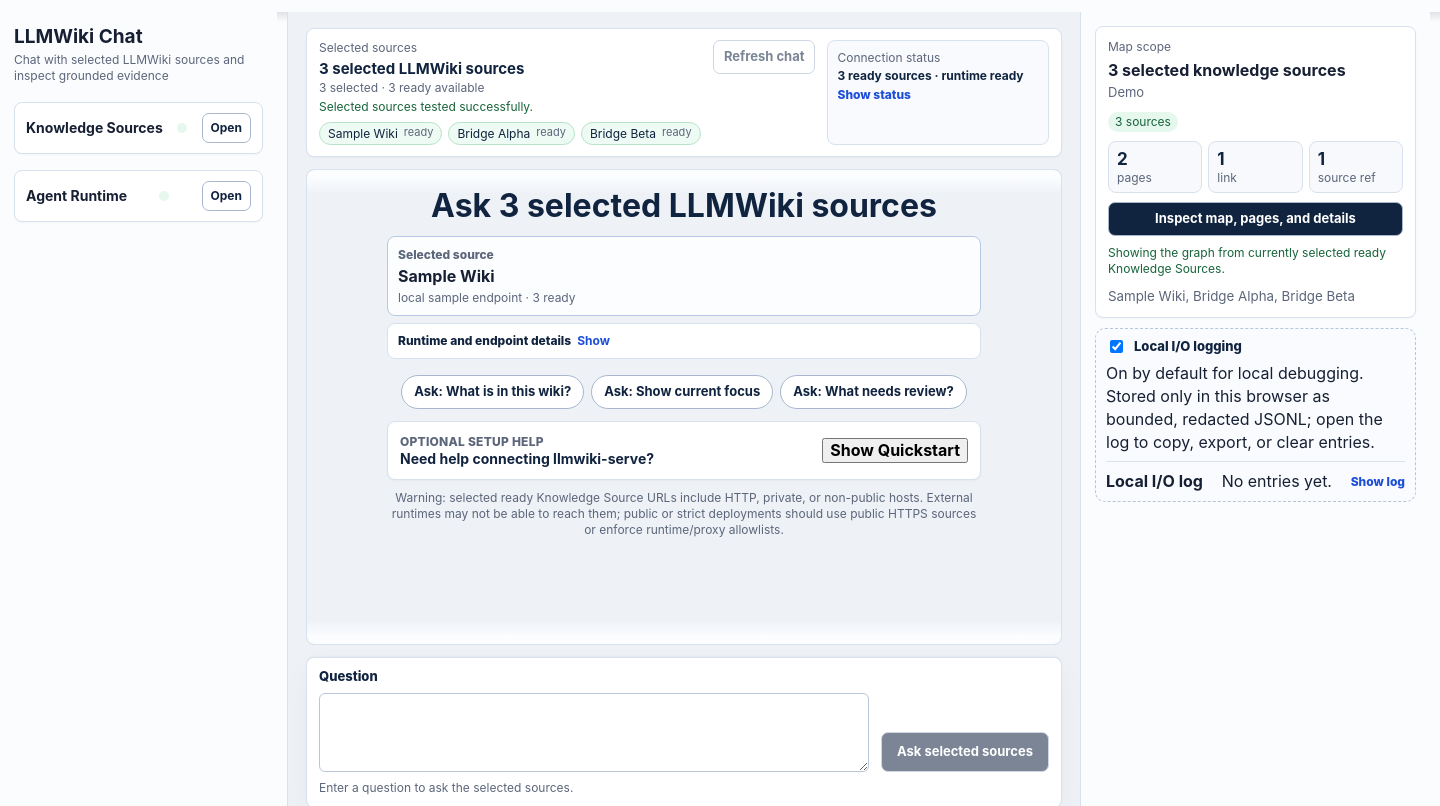
Test case: LLMWiki Chat › deduplicates Agent Bridge sources by endpoint when switching A2A and MCP bridge runtimes
Click the button with aria-label "Knowledge Sources" at (226, 128), box x1=202 y1=113 x2=251 y2=143
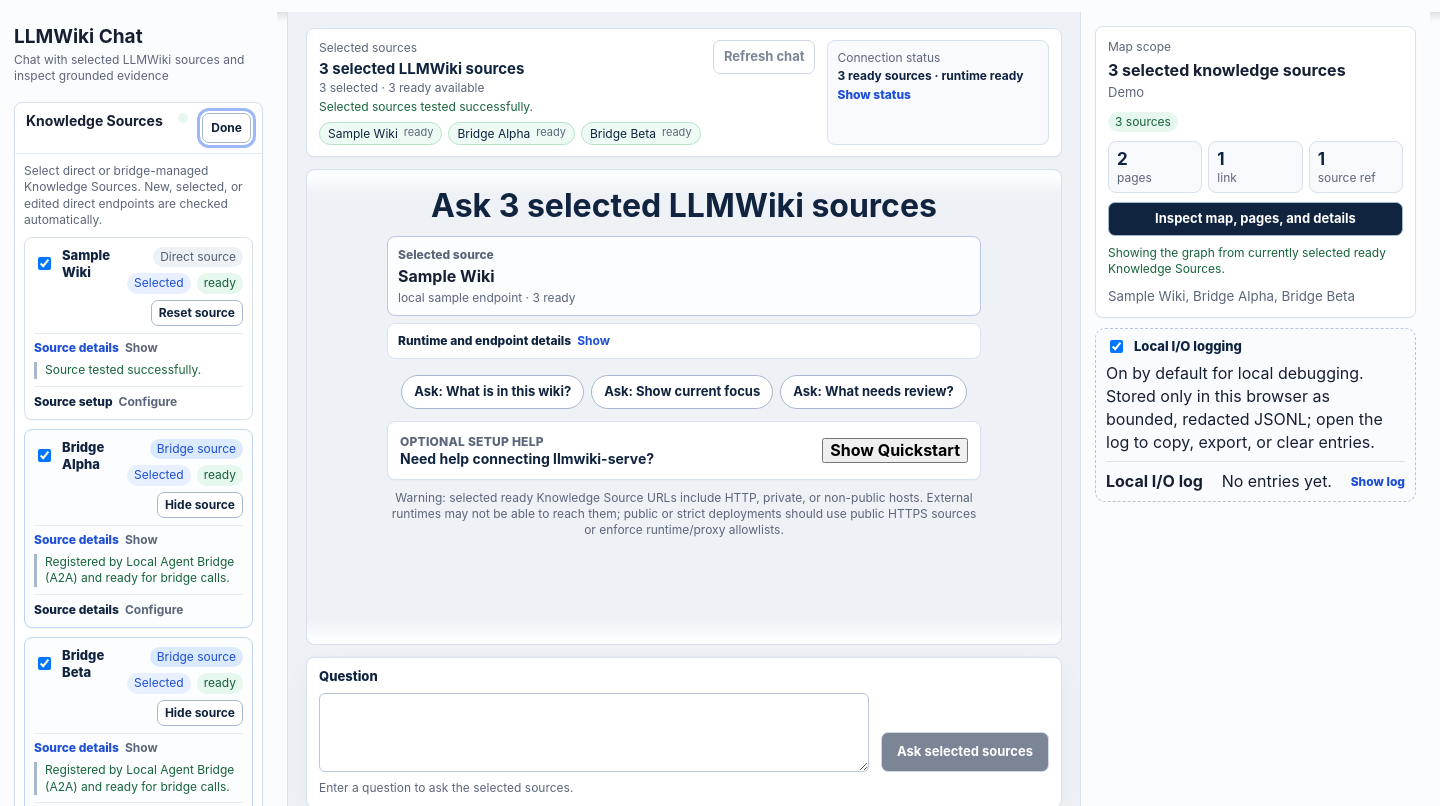
Click the checkbox labelled "Bridge Beta" at (44, 664), box x1=38 y1=658 x2=51 y2=670
(page scrolled)
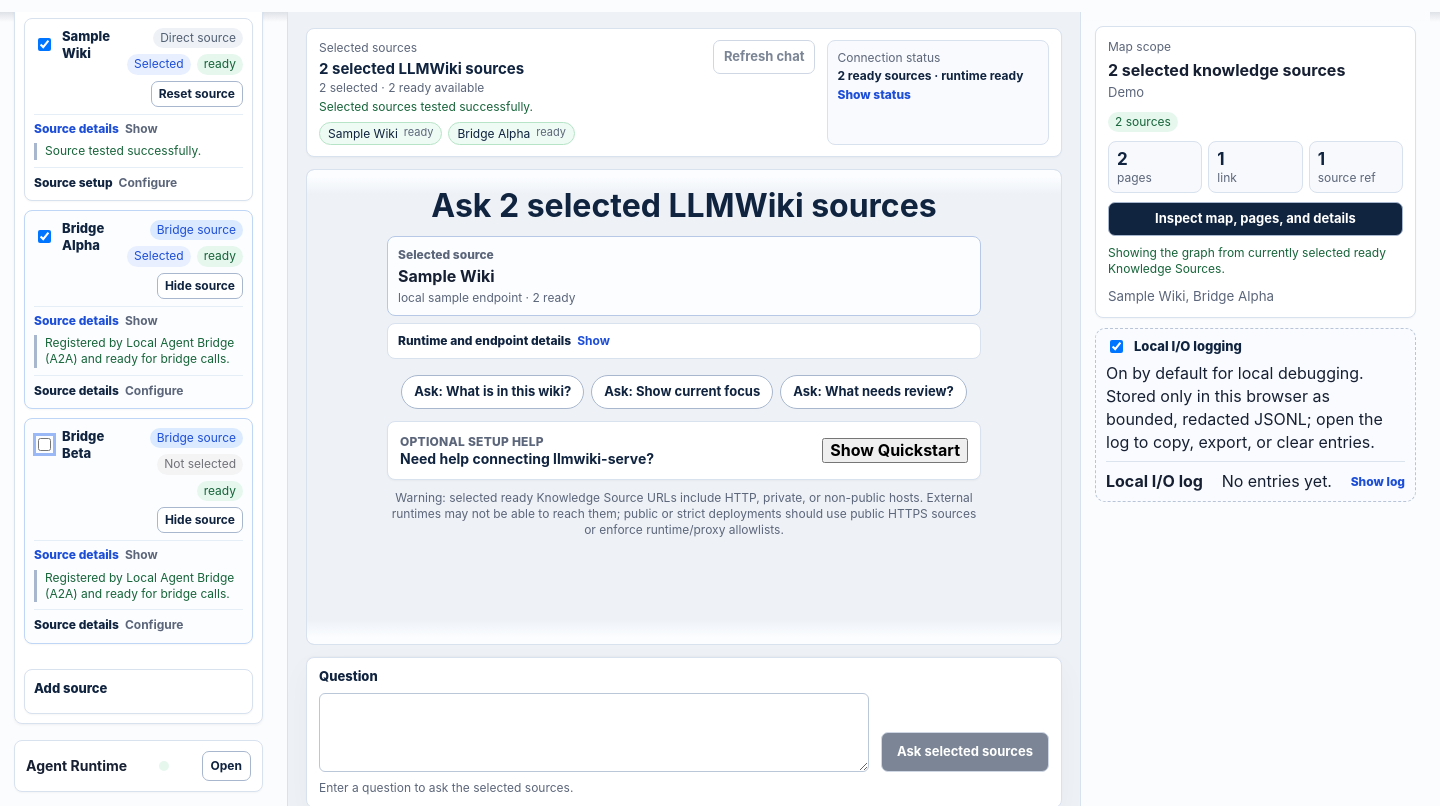
Now the checkbox labelled "Bridge Beta" is not checked, box x1=38 y1=438 x2=51 y2=452
Click the button with class "sidebar-section-toggle" at (226, 766), box x1=202 y1=751 x2=251 y2=781
(page scrolled)
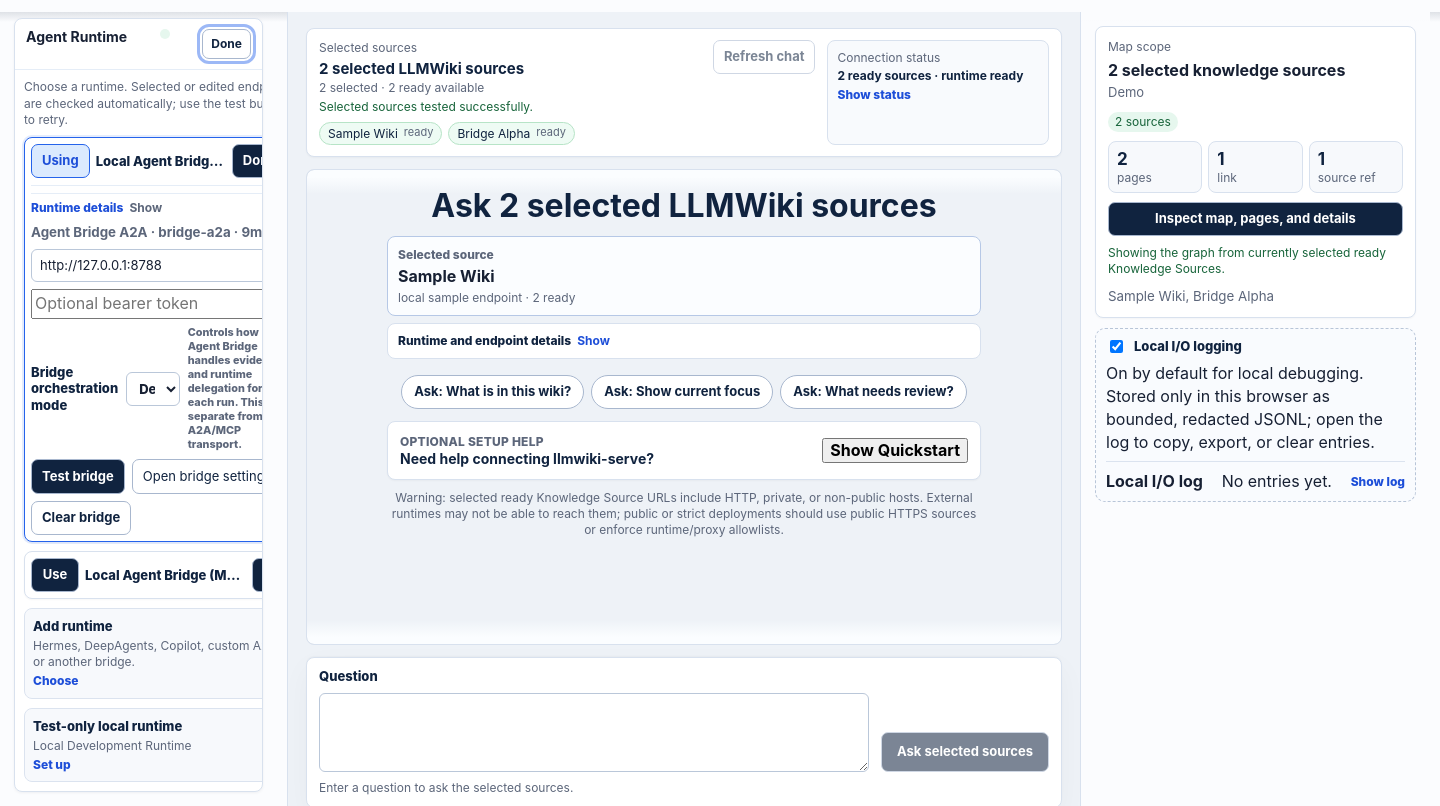
Now the element "Use Local Agent Bridge (MCP) ..." is shown, box x1=24 y1=551 x2=262 y2=599
Click the button with aria-label "Use Local Agent Bridge (MCP) runtime" at (55, 575), box x1=31 y1=558 x2=79 y2=592
(page scrolled)
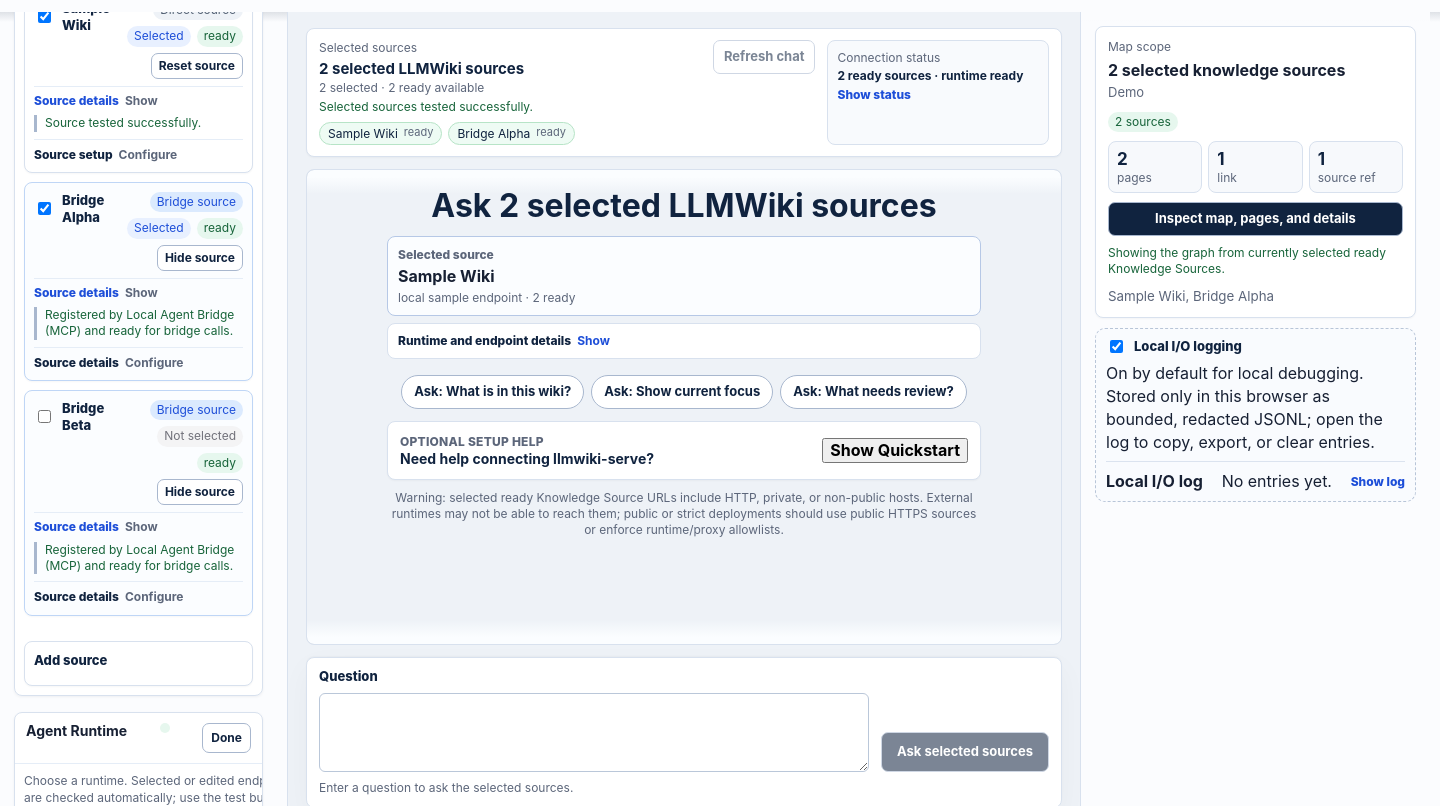
Now the number of checkboxes labelled "Bridge Alpha" is 1, box x1=38 y1=202 x2=51 y2=215
Now the number of checkboxes labelled "Bridge Beta" is 1, box x1=38 y1=410 x2=51 y2=424
Now the checkbox labelled "Bridge Alpha" is checked, box x1=38 y1=202 x2=51 y2=215
